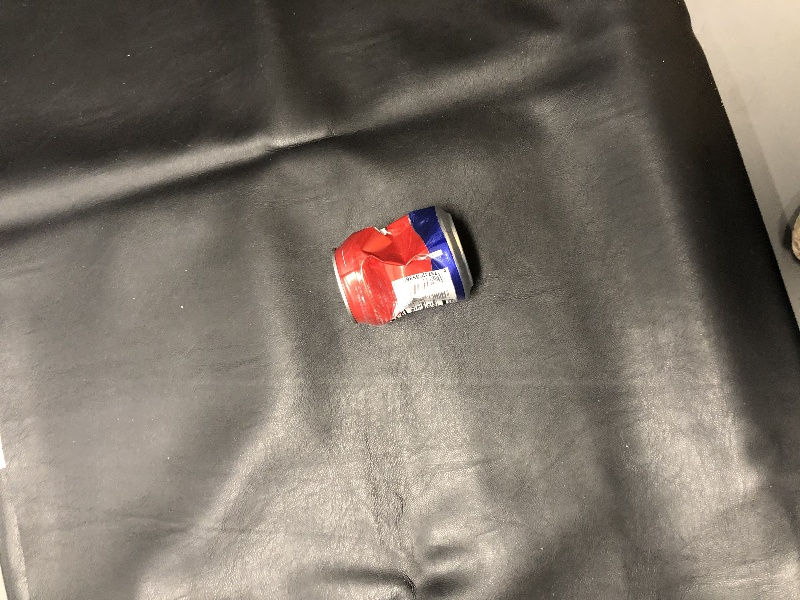metal: (322, 191, 490, 330)
